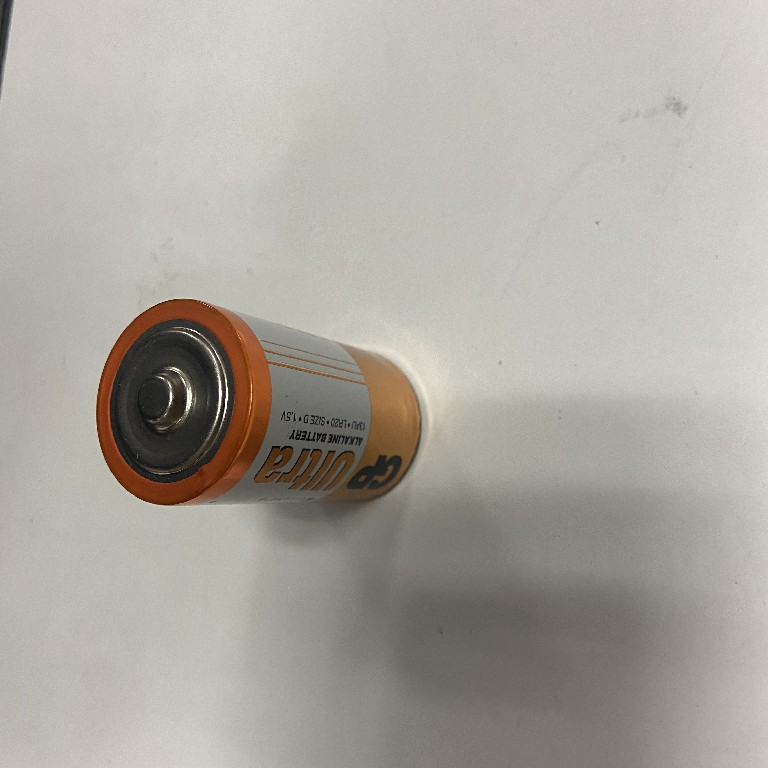charge: (93, 294, 428, 510)
